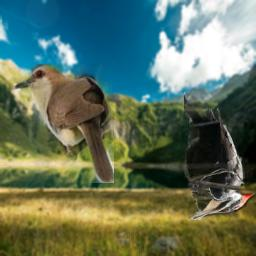Cuckoo: (14, 64, 114, 183)
Woodpecker: (184, 90, 256, 220)
